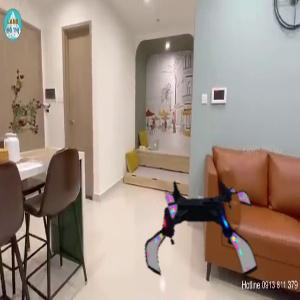drone: (137, 171, 261, 295)
